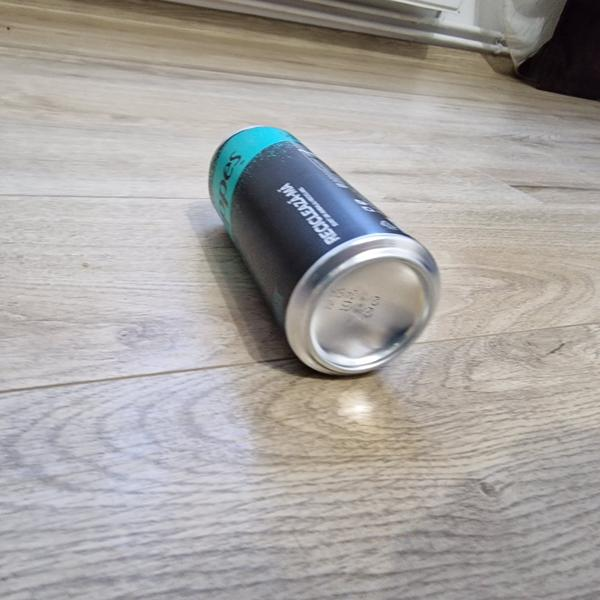can: (170, 79, 471, 408)
